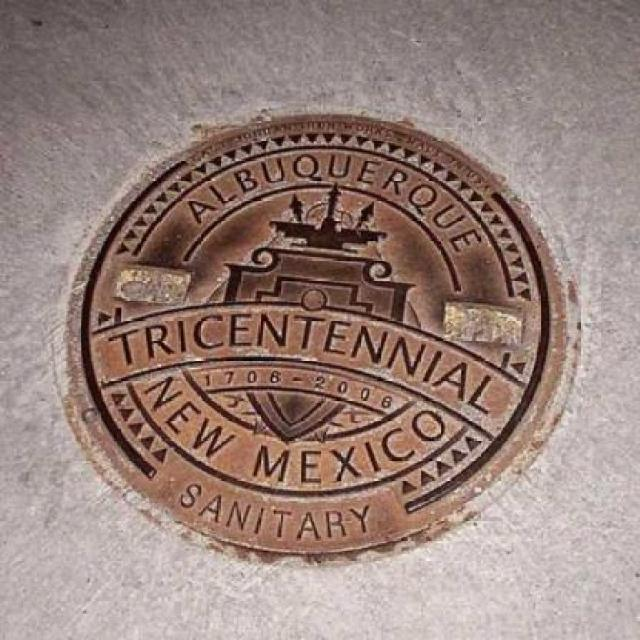Manhole: (44, 96, 598, 573)
